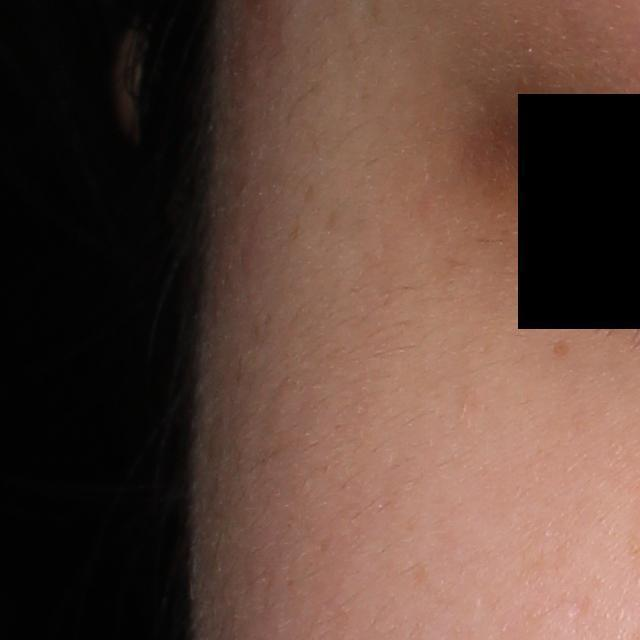melasma: (551, 337, 572, 360)
